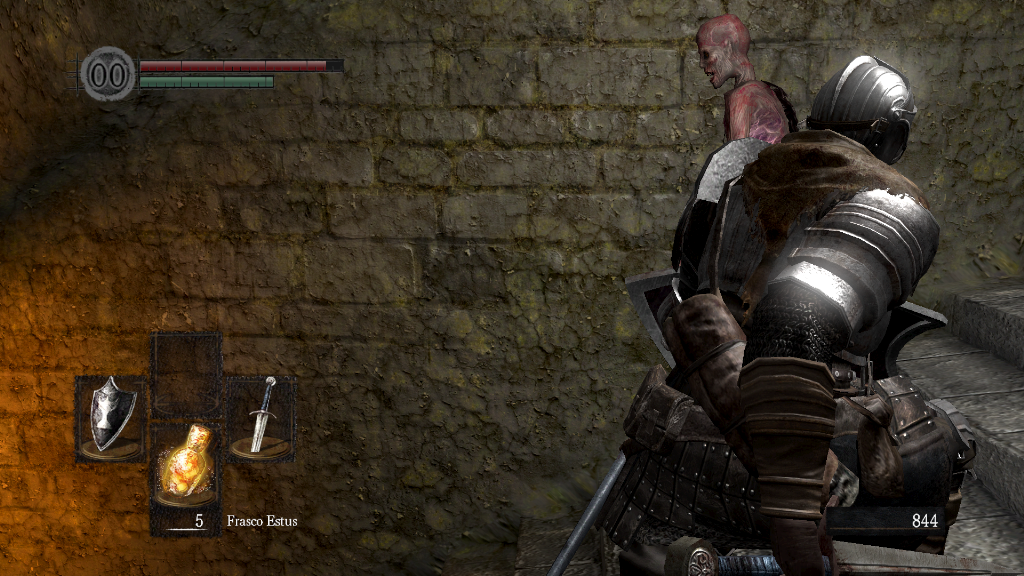health: (138, 58, 343, 71)
hollow: (694, 17, 810, 144)
humanity: (80, 45, 136, 102)
player: (549, 55, 980, 576)
souls: (825, 506, 945, 536)
stamina: (138, 74, 274, 88)
